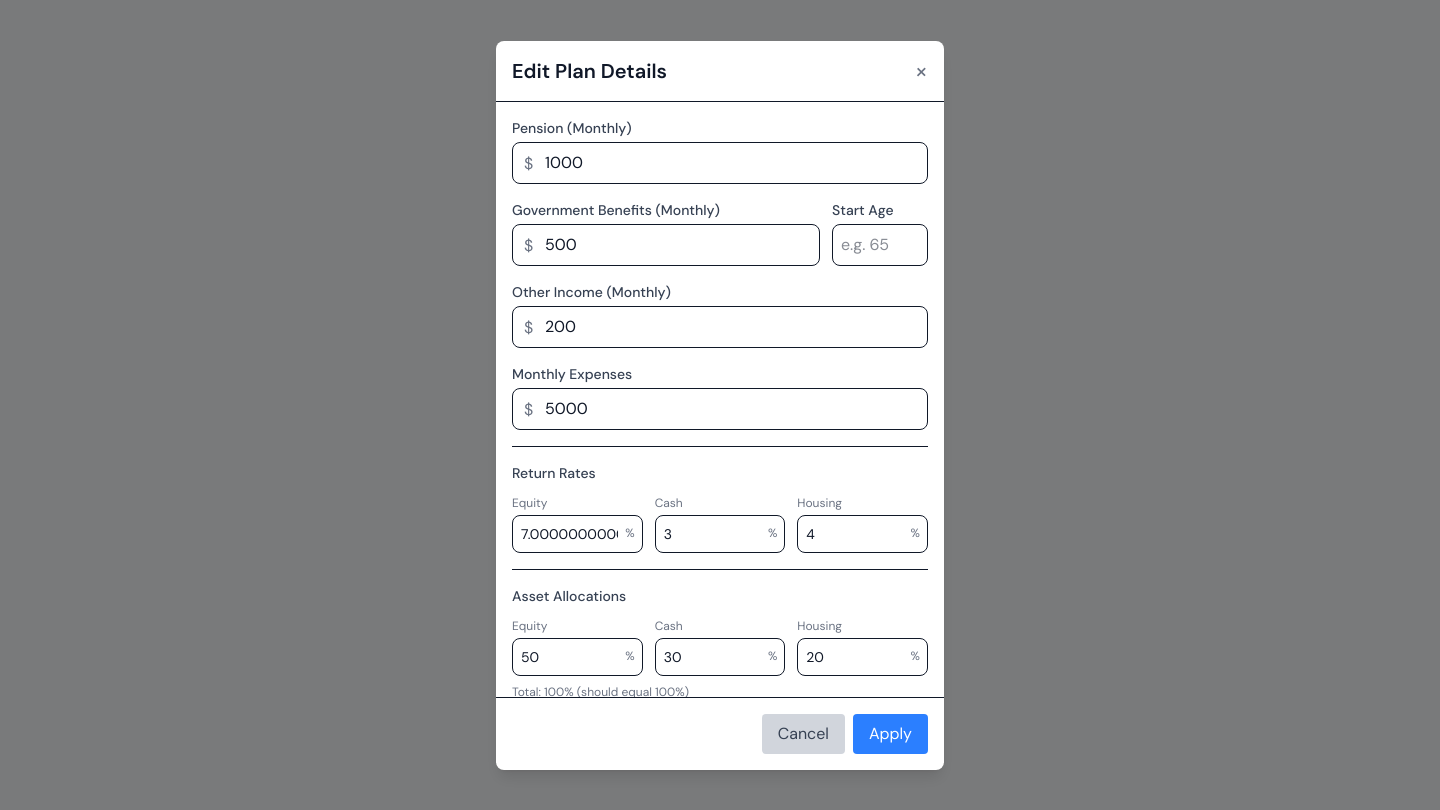
it: EditPlanDetailsModal › updates net monthly need when income changes
The width and height of the screenshot is (1440, 810).
Replace the text in the number field below "Pension (Monthly)" with "2000" at [720, 162], box [512,142,928,184]
(page scrolled)
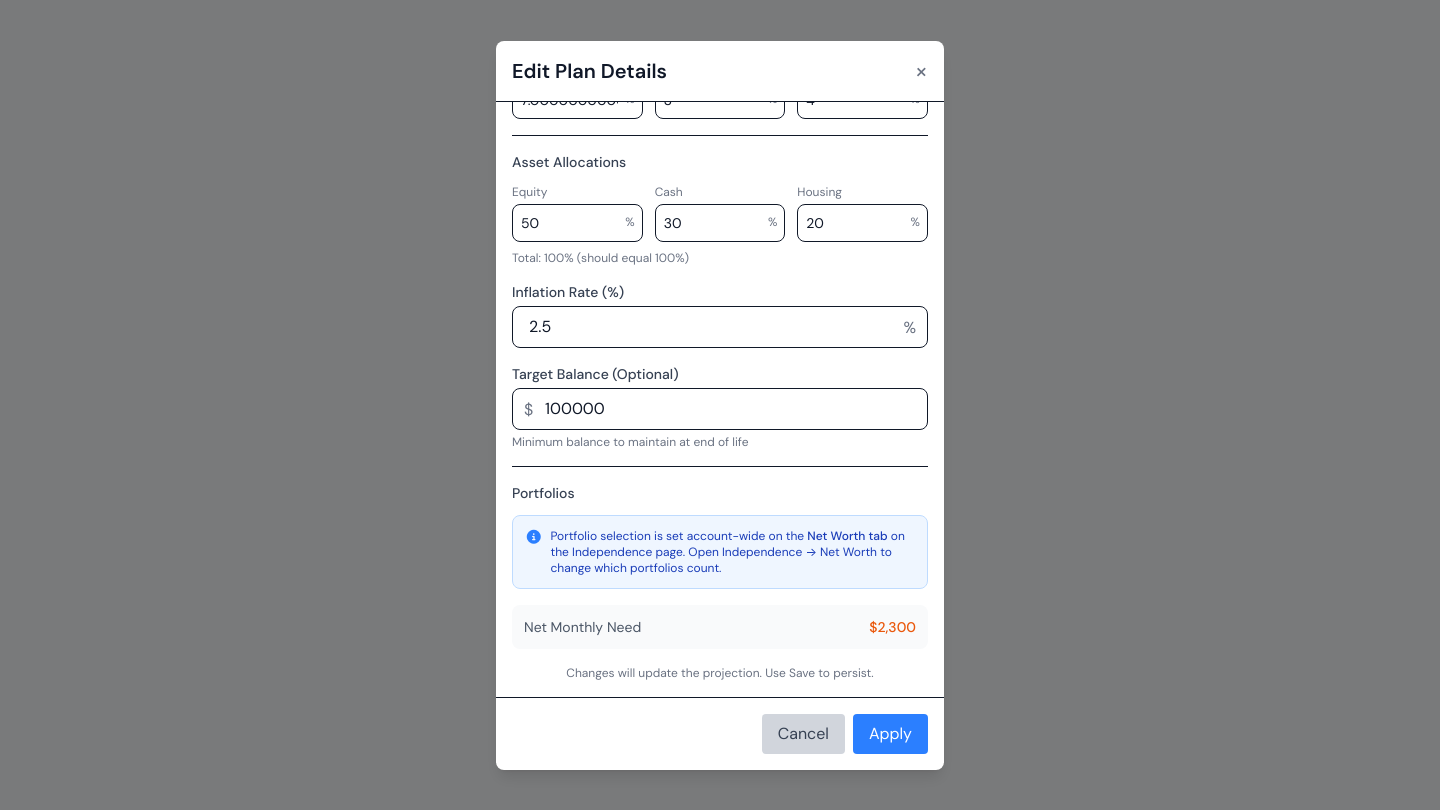
Expected: the text "$2,300" is shown, [869,616,916,636]
